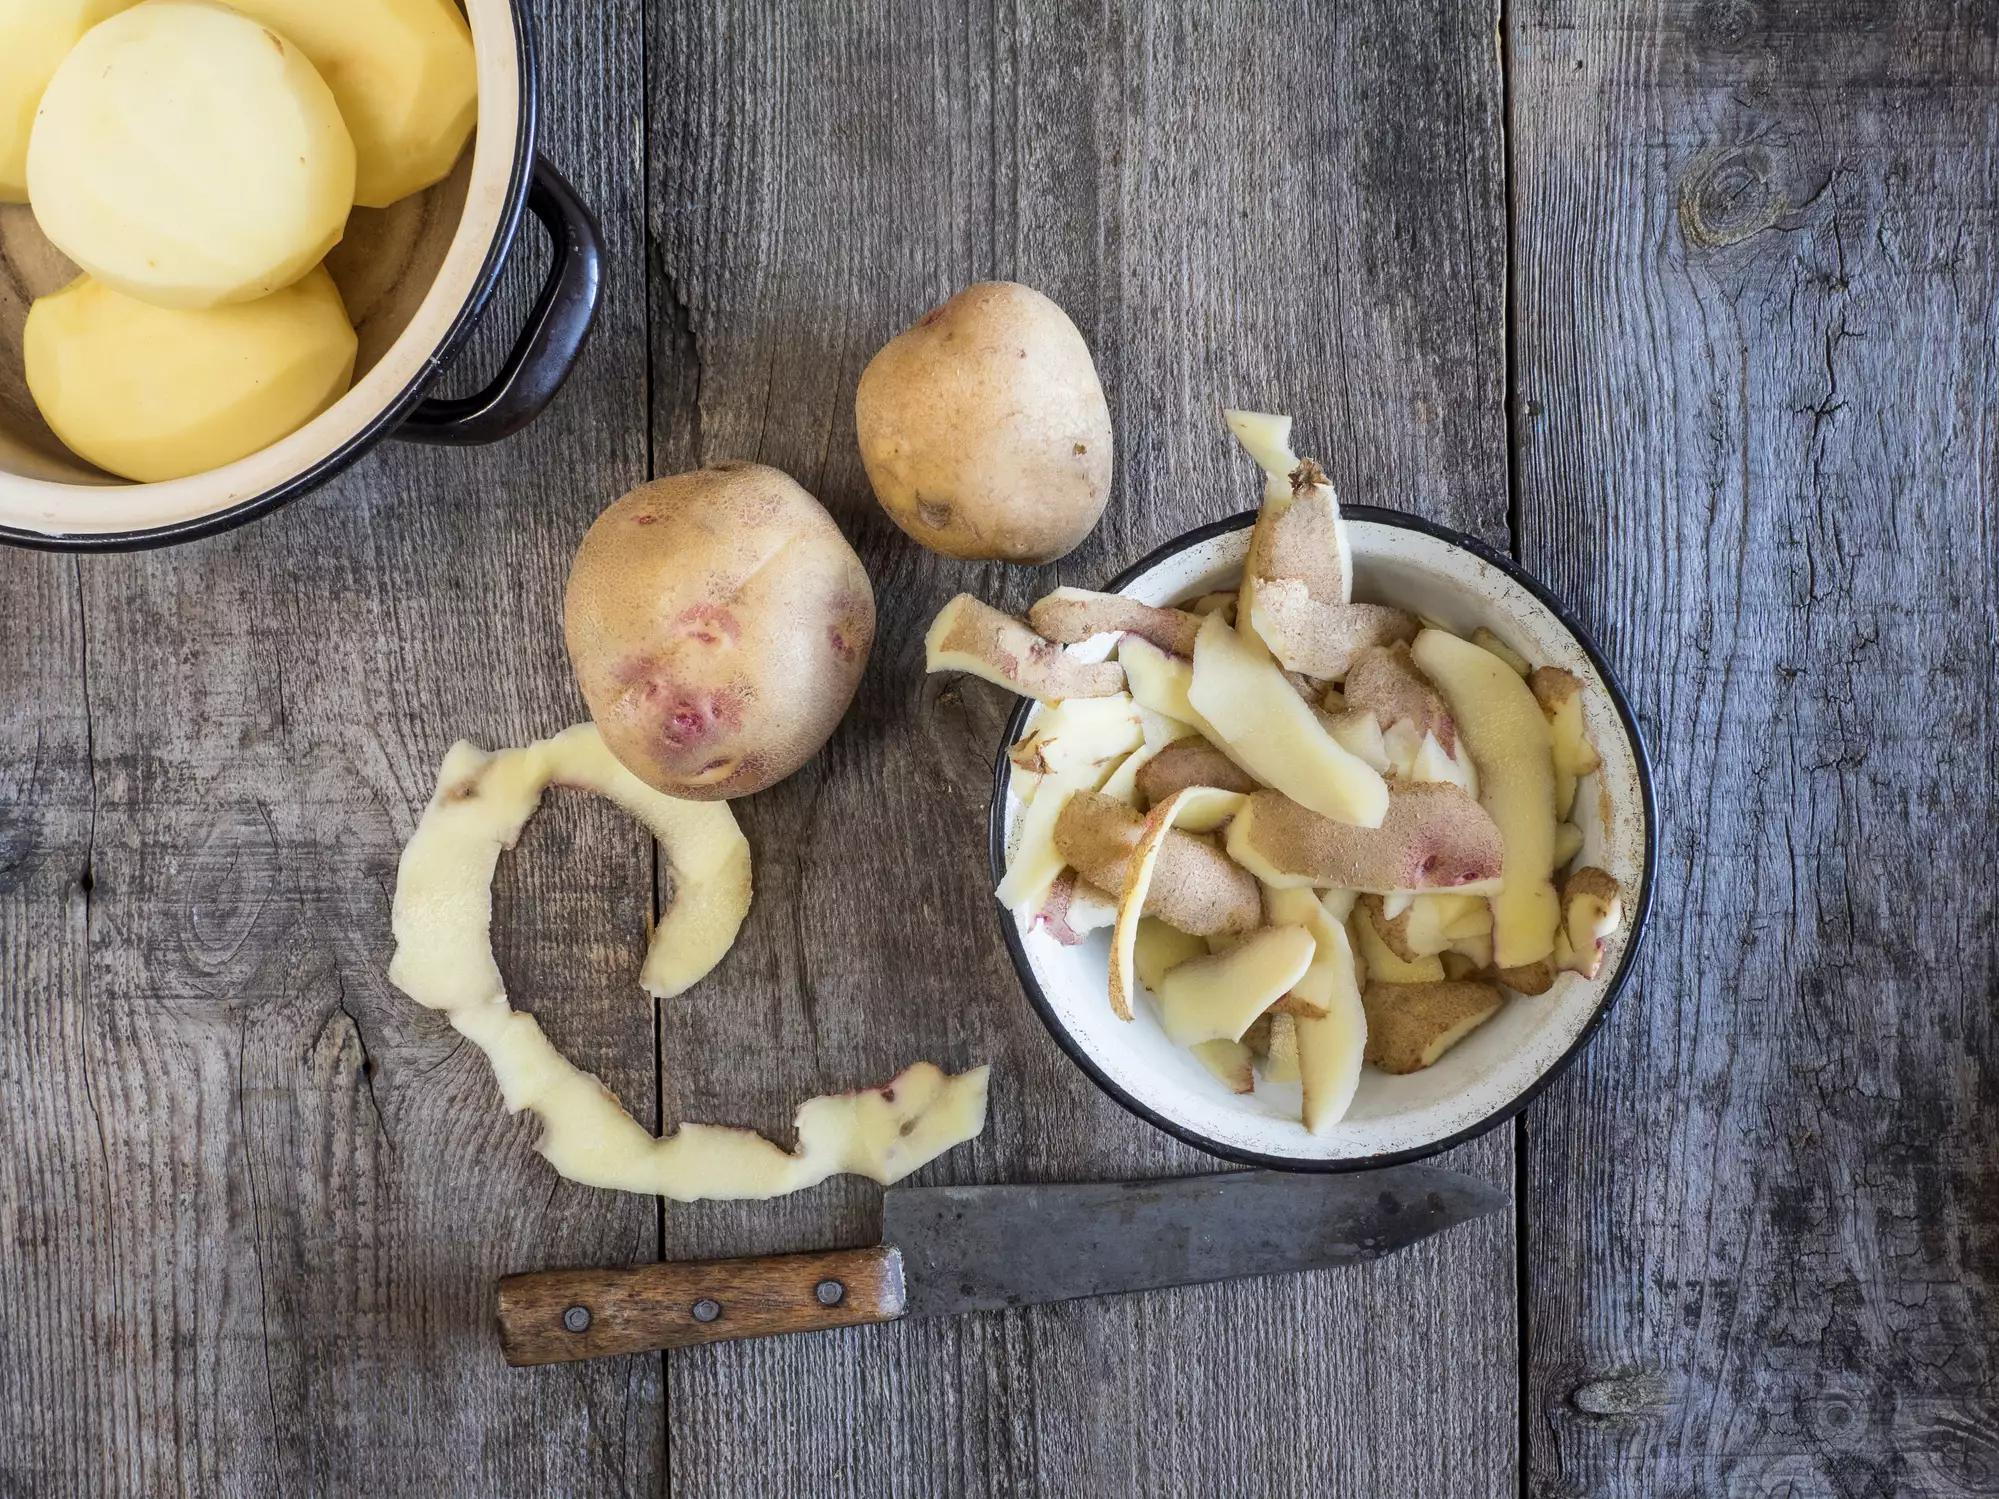organic: (390, 723, 984, 1198), (565, 465, 874, 798), (1412, 628, 1558, 987), (1190, 619, 1387, 827), (1239, 461, 1402, 680), (1228, 779, 1502, 891), (778, 1061, 987, 1190), (926, 597, 1125, 699), (1160, 924, 1313, 1046), (1144, 827, 1262, 938), (1363, 979, 1503, 1072), (1299, 968, 1365, 1131)
